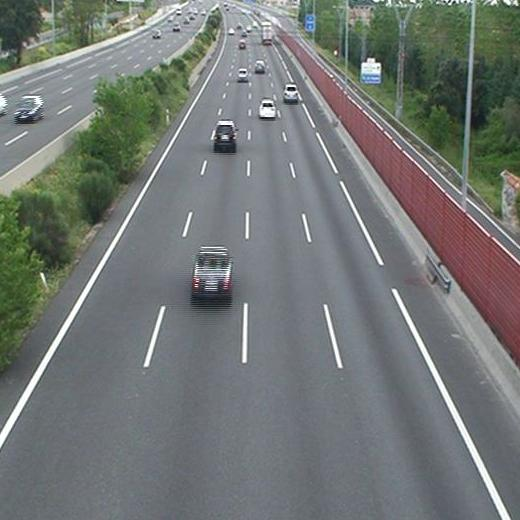car: (192, 248, 232, 298), (213, 122, 236, 147), (258, 100, 276, 117), (284, 85, 298, 101), (254, 61, 266, 73), (237, 69, 247, 82), (237, 40, 244, 48)
truck: (262, 21, 271, 45)
